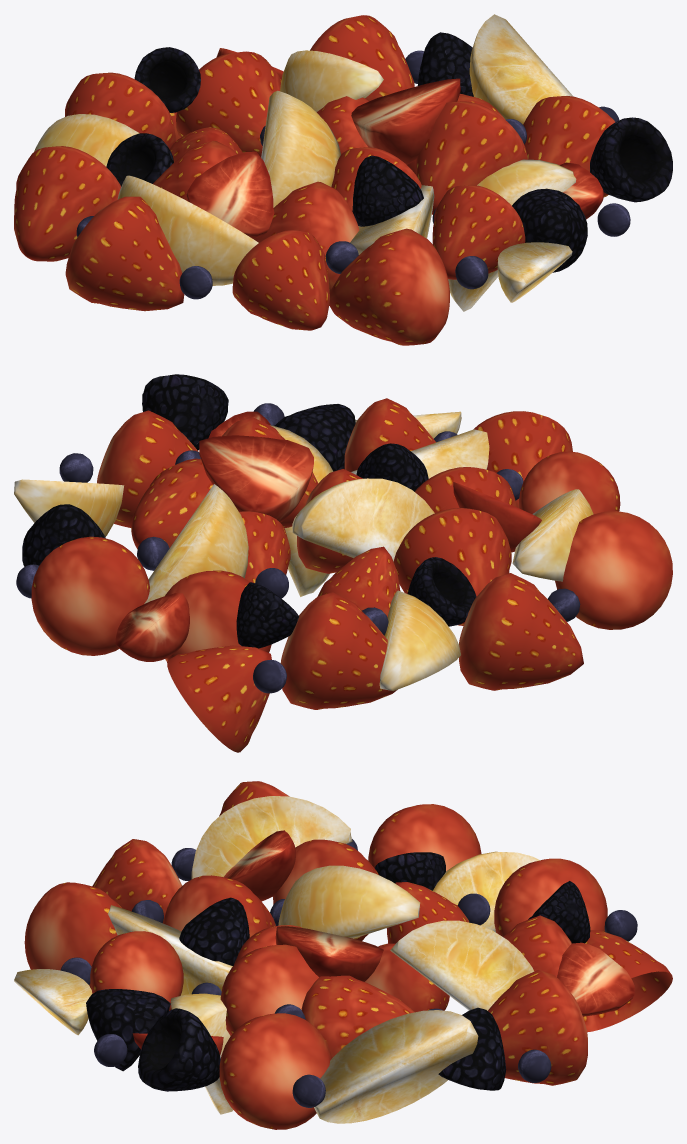
Rendered from Carrry.fbx.
3 views of the same model, one above another, from view 1: azimuth 30°, elevation 25°; view 2: azimuth 150°, elevation 25°; view 3: azimuth 270°, elevation 25° (orthographic). The views are drawn at different scales.
Visible parts, largest first — view 1: polySurface494, polySurface502, polySurface501, polySurface497, polySurface485, polySurface490, polySurface511, polySurface486, polySurface496, polySurface517, polySurface495, polySurface521 (+23 smaller); view 2: polySurface501, polySurface484, polySurface502, polySurface493, polySurface496, polySurface505, polySurface491, polySurface509, polySurface514, polySurface488, polySurface512, polySurface485 (+26 smaller); view 3: polySurface486, polySurface488, polySurface514, polySurface484, polySurface496, polySurface517, polySurface485, polySurface494, polySurface490, polySurface521, polySurface503, polySurface495 (+27 smaller).
Part boxes in pixels (<box>): polySurface494: <box>329,228,449,345</box>; polySurface502: <box>65,196,184,311</box>; polySurface501: <box>14,146,120,261</box>; polySurface497: <box>232,230,329,330</box>; polySurface485: <box>253,155,423,292</box>; polySurface490: <box>416,101,527,214</box>; polySurface511: <box>176,51,281,157</box>; polySurface486: <box>469,14,573,124</box>; polySurface496: <box>261,90,340,207</box>; polySurface517: <box>117,175,258,285</box>; polySurface495: <box>432,185,525,279</box>; polySurface521: <box>590,117,672,202</box>; polySurface501: <box>459,573,583,690</box>; polySurface484: <box>31,536,149,655</box>; polySurface502: <box>555,511,672,629</box>; polySurface493: <box>280,592,397,709</box>; polySurface496: <box>292,478,434,561</box>; polySurface505: <box>199,435,313,522</box>; polySurface491: <box>167,645,271,752</box>; polySurface509: <box>393,508,511,625</box>; polySurface514: <box>144,484,248,603</box>; polySurface488: <box>97,410,198,527</box>; polySurface512: <box>379,590,460,691</box>; polySurface485: <box>356,443,516,512</box>; polySurface486: <box>314,1010,478,1123</box>; polySurface488: <box>219,1013,331,1129</box>; polySurface514: <box>390,920,534,1010</box>; polySurface484: <box>488,970,587,1085</box>; polySurface496: <box>278,865,420,938</box>; polySurface517: <box>191,796,352,878</box>; polySurface485: <box>163,875,275,965</box>; polySurface494: <box>24,882,121,988</box>; polySurface490: <box>220,944,318,1035</box>; polySurface521: <box>138,1008,220,1091</box>; polySurface503: <box>301,975,414,1057</box>; polySurface495: <box>90,931,183,1010</box>.
Bounding box in the file's own units: 7.21 × 2.28 × 7.22.
1 material, 1 textured.
